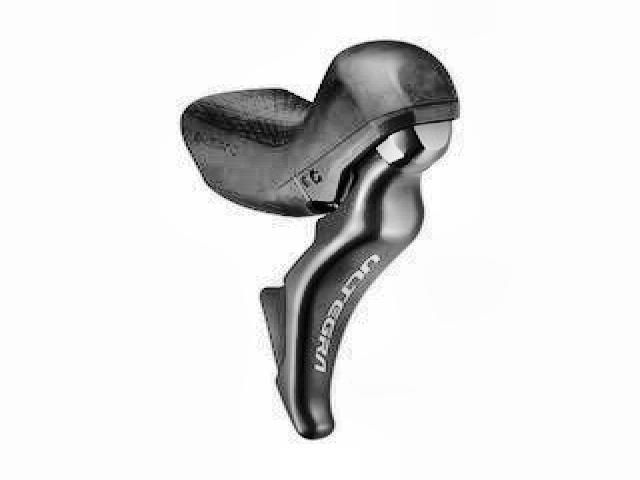sti_shifter: (170, 39, 468, 442)
